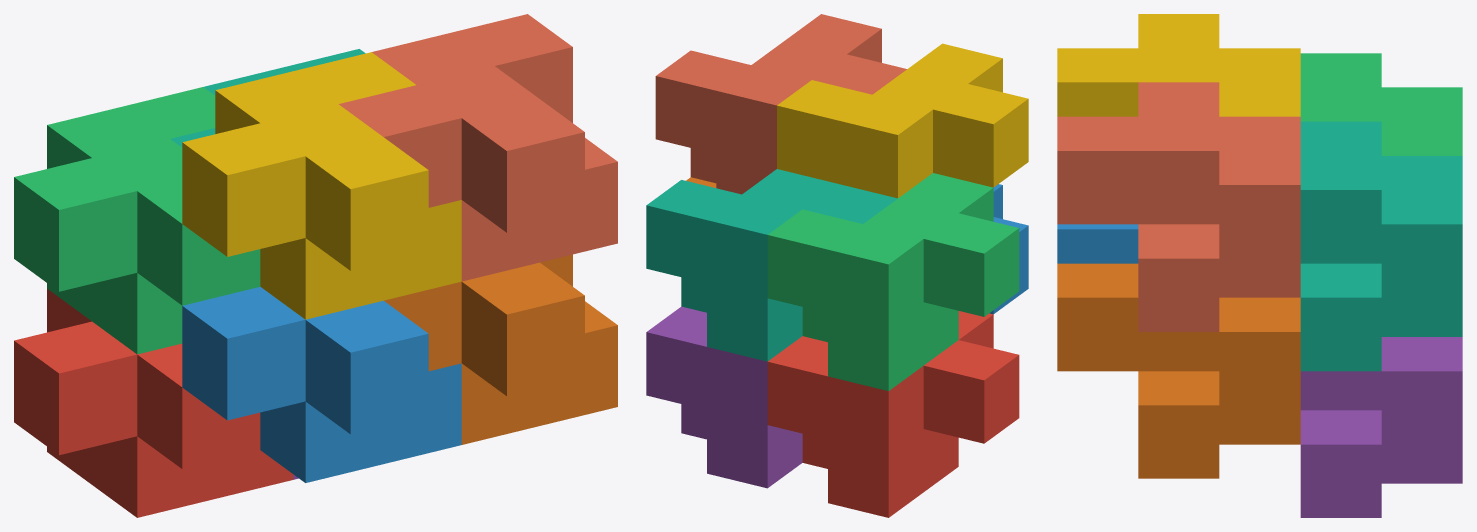
Rendered from tiling.obj.
3 views of the same model, side by side, from view 1: azimuth 30°, elevation 25°; view 2: azimuth 150°, elevation 25°; view 3: azimuth 270°, elevation 25° (orthographic). The views are drawn at different scales.
Parts seen in each view (by area): view 1: copy_1_domain_4, copy_1_domain_8, copy_1_domain_3, copy_1_domain_2, copy_1_domain_1, copy_1_domain_6, copy_1_domain_7; view 2: copy_1_domain_3, copy_1_domain_1, copy_1_domain_4, copy_1_domain_7, copy_1_domain_8, copy_1_domain_5, copy_1_domain_2; view 3: copy_1_domain_8, copy_1_domain_7, copy_1_domain_6, copy_1_domain_5, copy_1_domain_4, copy_1_domain_3, copy_1_domain_2.
Part boxes in pixels (x1,y1,x2,y2): copy_1_domain_4: (182, 52, 461, 319); copy_1_domain_8: (339, 14, 617, 281); copy_1_domain_3: (14, 87, 260, 354); copy_1_domain_2: (182, 286, 461, 482); copy_1_domain_1: (14, 288, 293, 517); copy_1_domain_6: (384, 254, 617, 444); copy_1_domain_7: (171, 49, 365, 147); copy_1_domain_3: (767, 173, 1019, 390); copy_1_domain_1: (767, 311, 1019, 517); copy_1_domain_4: (777, 43, 1028, 198); copy_1_domain_7: (646, 169, 897, 361); copy_1_domain_8: (655, 14, 906, 194); copy_1_domain_5: (646, 306, 802, 488); copy_1_domain_2: (989, 184, 1028, 314); copy_1_domain_8: (1057, 82, 1300, 331); copy_1_domain_7: (1300, 121, 1462, 371); copy_1_domain_6: (1057, 263, 1300, 478); copy_1_domain_5: (1300, 337, 1462, 517); copy_1_domain_4: (1057, 14, 1300, 116); copy_1_domain_3: (1300, 53, 1462, 155); copy_1_domain_2: (1057, 224, 1138, 263).
Size of the model in its own units: 6 by 5 by 5.
